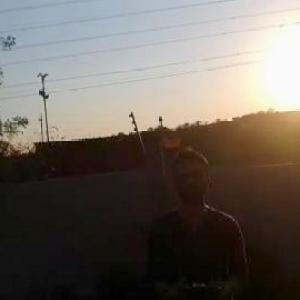follow: (140, 142, 253, 299)
